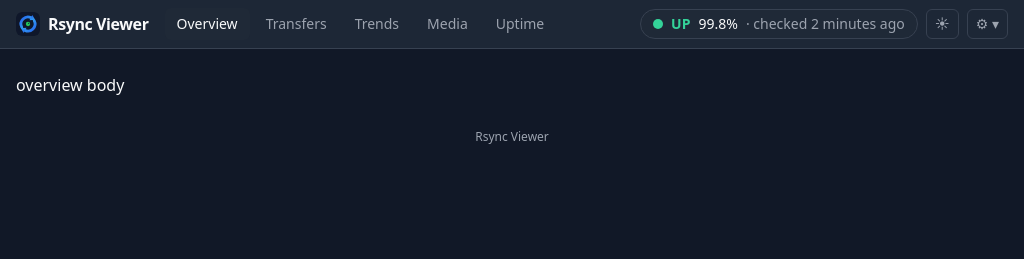
it: Shell (AC-001, AC-023) › shows Users only to admins
Click the button named "Settings menu".
click(987, 24)  # box [967, 9, 1008, 39]
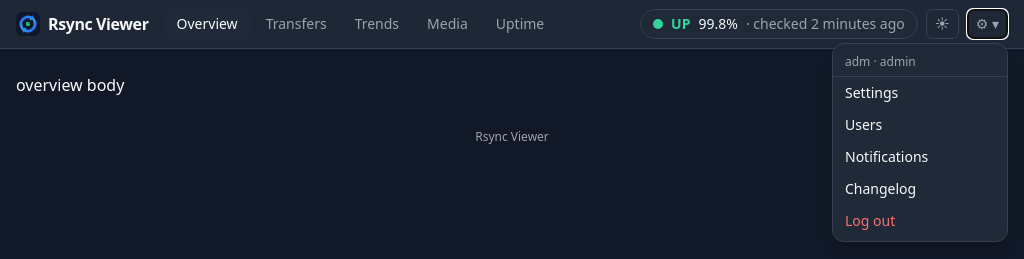
expect the menu item "Users" is shown: met, box [845, 115, 882, 134]
